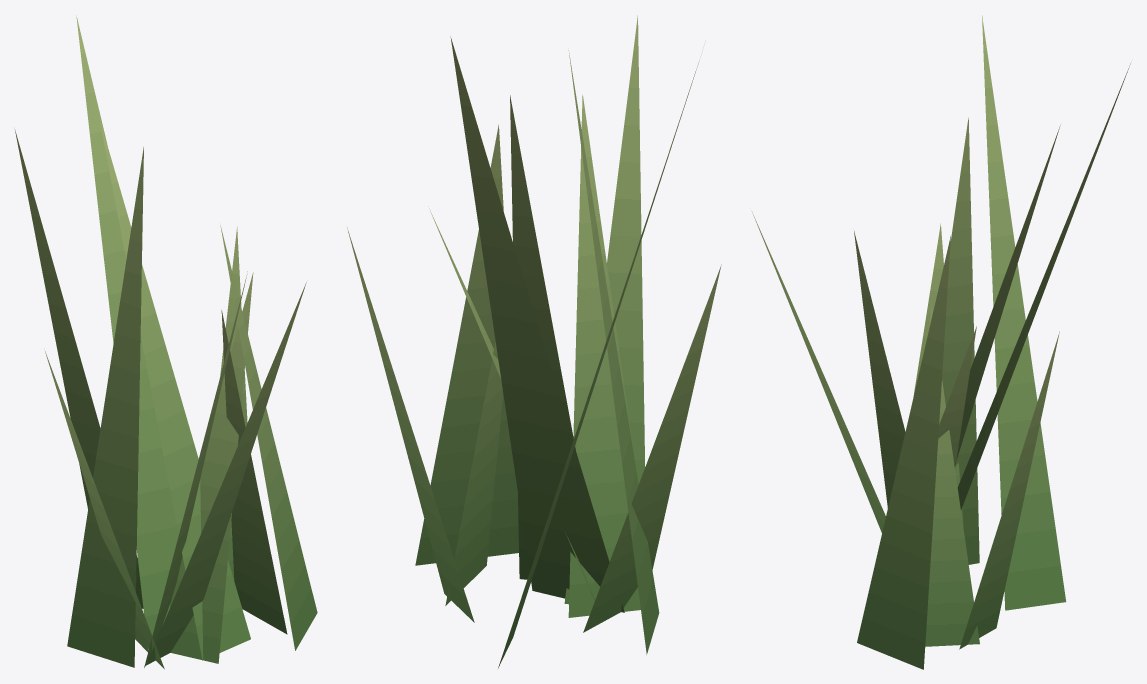
The model's file is grass_tuft_5.glb.
3 views of the same model, side by side, from view 1: azimuth 30°, elevation 25°; view 2: azimuth 150°, elevation 25°; view 3: azimuth 270°, elevation 25° (orthographic). The views are drawn at different scales.
Visible parts, largest first — view 1: grass_tuft_6; view 2: grass_tuft_6; view 3: grass_tuft_6.
Boxes of the visible parts, <box> form: grass_tuft_6: <box>15,15,317,669</box>; grass_tuft_6: <box>347,15,721,668</box>; grass_tuft_6: <box>752,15,1130,669</box>.
Size of the model in its own units: 0.4115 by 0.7963 by 0.5052.
Materials: 1 (1 with a texture image).
